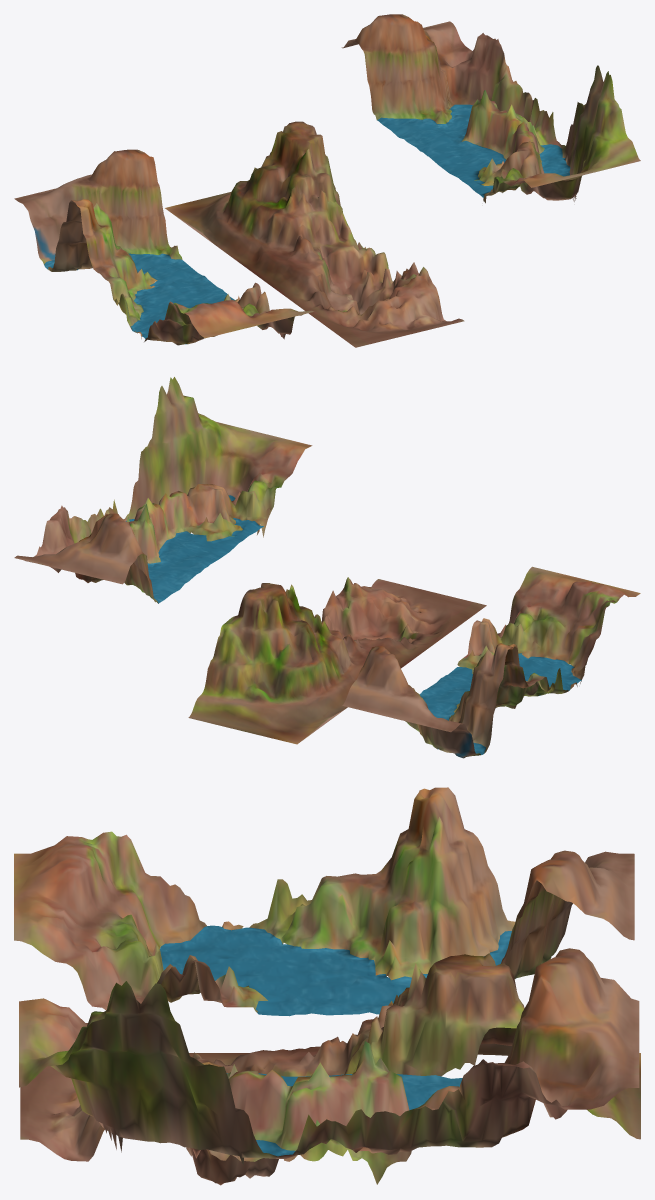
Rendered from Earth_Terrain_Decimate.fbx.
The picture shows the model from 3 angles, top to bottom: view 1: azimuth 30°, elevation 25°; view 2: azimuth 150°, elevation 25°; view 3: azimuth 270°, elevation 25°; orthographic projection. The views are drawn at different scales.
Visible parts, largest first — view 1: Earth_Terrain.005, Earth_Terrain.006, Earth_Terrain.007; view 2: Earth_Terrain.005, Earth_Terrain.006, Earth_Terrain.007; view 3: Earth_Terrain.007, Earth_Terrain.005, Earth_Terrain.006.
Boxes of the visible parts, x1,y1,x2,y2 form: Earth_Terrain.005: (341,14,640,203); Earth_Terrain.006: (165,121,464,347); Earth_Terrain.007: (14,149,313,345); Earth_Terrain.005: (14,377,312,603); Earth_Terrain.006: (188,577,486,744); Earth_Terrain.007: (342,566,640,758); Earth_Terrain.007: (14,787,634,1016); Earth_Terrain.005: (19,948,639,1165); Earth_Terrain.006: (20,953,640,1185).
Size of the model in its own units: 797 by 394 by 606.
3 materials, 3 textured.
